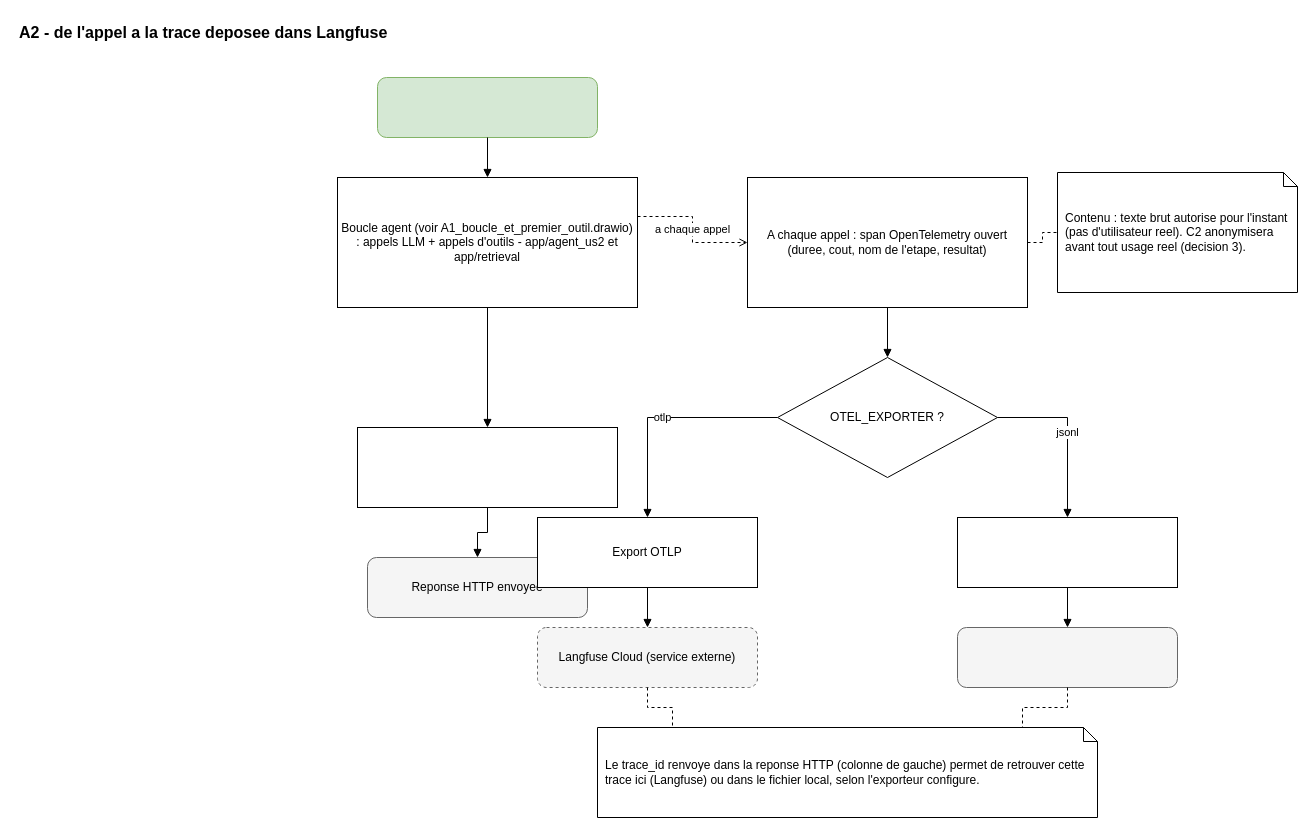
This 1315x835 diagram has some shape labels left out. The centre of each missing label's shape, as x and y in pixels:
Ecriture d'une ligne JSON: the point at 1067,552
logs/traces_agent_us2.jsonl (local): the point at 1067,657
Reponse finale : texte + regles_citees + trace_id: the point at 487,467
Requete recue (POST /questions): the point at 487,107
